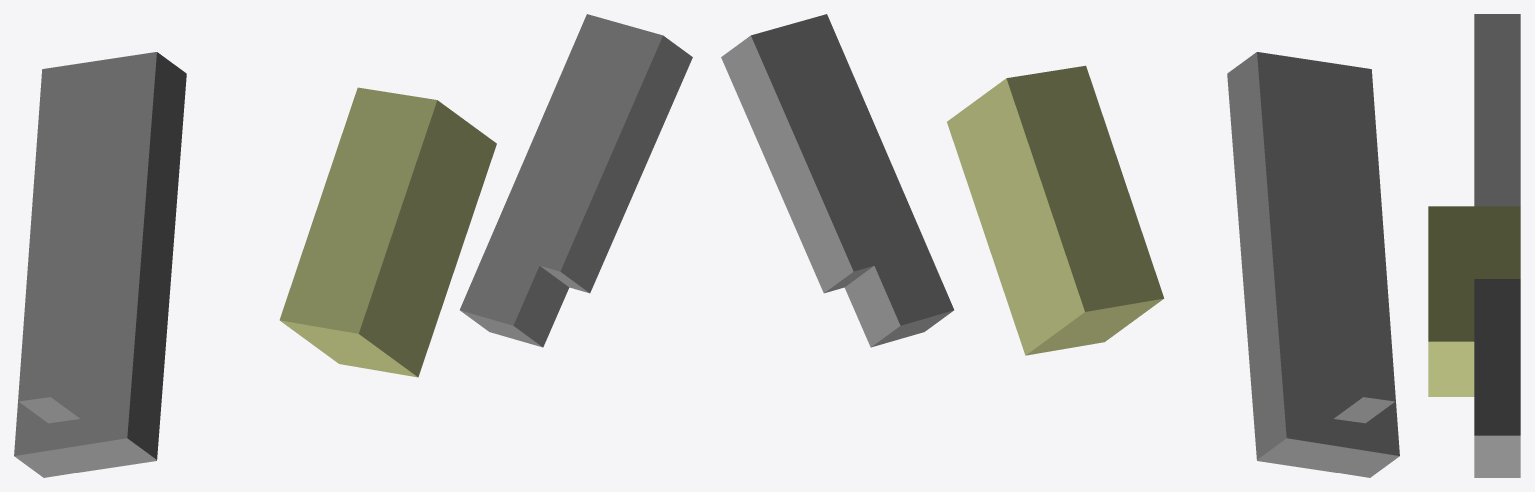
The picture shows the model from 3 angles, left to right: view 1: azimuth 30°, elevation 25°; view 2: azimuth 150°, elevation 25°; view 3: azimuth 270°, elevation 25°; orthographic projection. The views are drawn at different scales.
Visible parts, largest first — view 1: 0_3_2_0_2_2_3_2_2; view 2: 0_3_2_0_2_2_3_2_2; view 3: 0_3_2_0_2_2_3_2_2.
Part boxes in pixels (x1,y1,x2,y2): 0_3_2_0_2_2_3_2_2: (14,14,692,477); 0_3_2_0_2_2_3_2_2: (721,14,1399,477); 0_3_2_0_2_2_3_2_2: (1428,14,1520,477).
Bounding box in the file's own units: 37.7 × 21.69 × 6.
